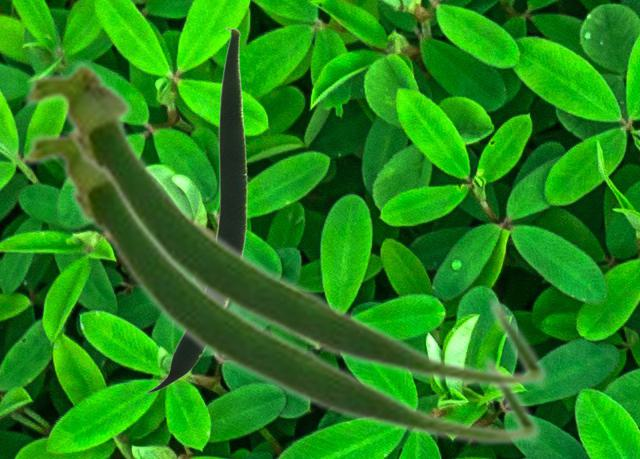french_bean: (20, 57, 549, 391), (20, 126, 542, 447), (145, 27, 246, 392)
